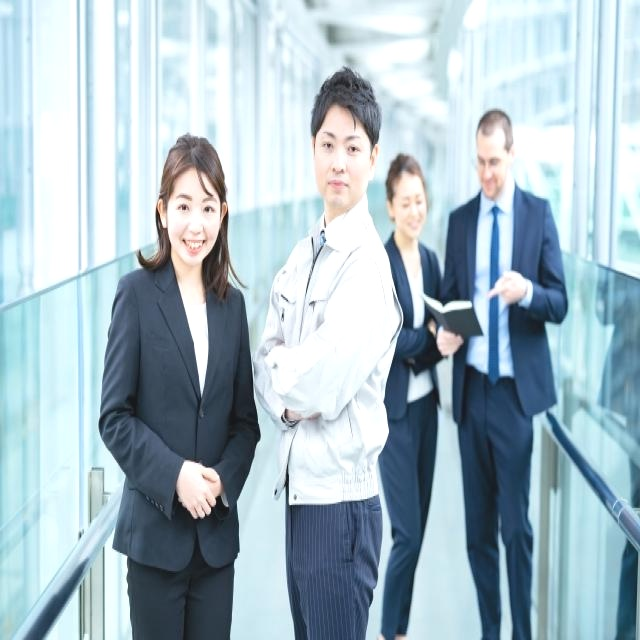Sin_Casco_Mascarrilla: (313, 69, 382, 203), (158, 134, 225, 259), (382, 155, 427, 237), (474, 110, 514, 200)
Sin_Chaleco: (112, 260, 245, 546), (265, 217, 387, 479)
